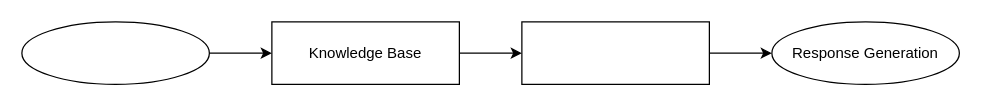
Some shapes in this 981 by 106 pixel diagram are drawn without their labels. Each missing label, with the centre of its shape:
LLM (Language Model): point (615, 52)
User Queries: point (115, 52)
